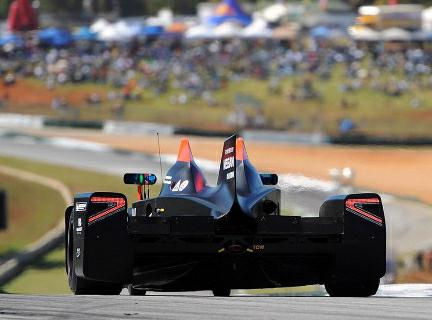日产-DeltaWing: (58, 137, 395, 302)
